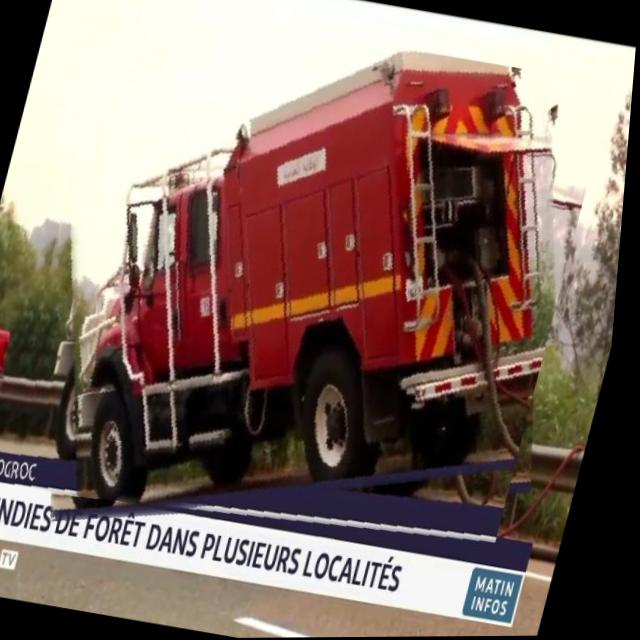Protection Civile: (0, 0, 620, 575)
